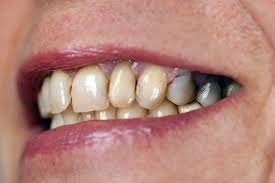decay: (167, 69, 195, 105), (196, 79, 219, 106), (220, 83, 240, 95)
normal: (72, 65, 107, 113), (149, 102, 177, 116), (117, 106, 146, 119), (96, 107, 116, 119), (178, 103, 201, 112), (49, 114, 64, 127), (64, 111, 79, 123)
rough: (51, 71, 72, 113)
yellow: (136, 64, 165, 109), (109, 62, 135, 107), (79, 112, 95, 121)
